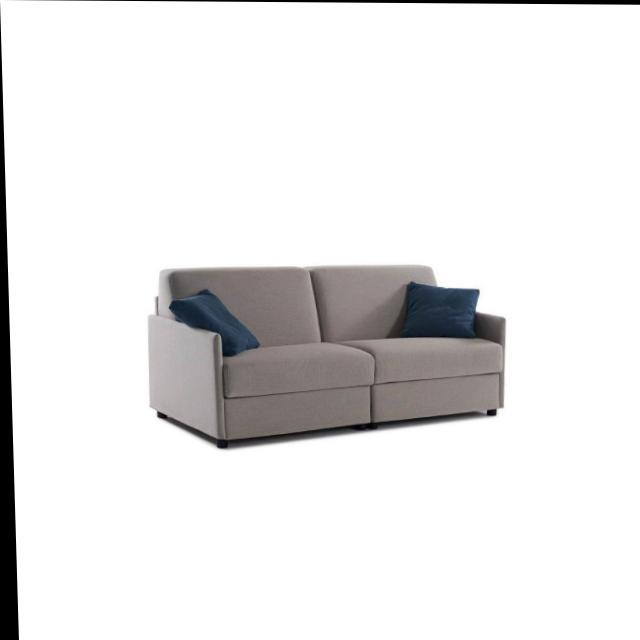Sofa: (142, 261, 509, 452)
